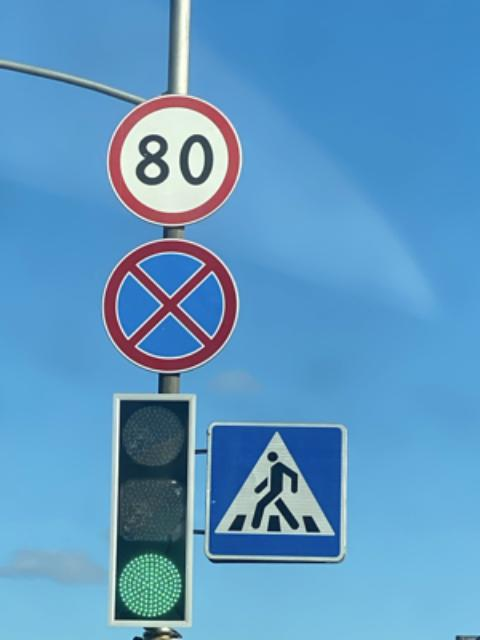crosswalk-sign: (204, 420, 348, 564)
